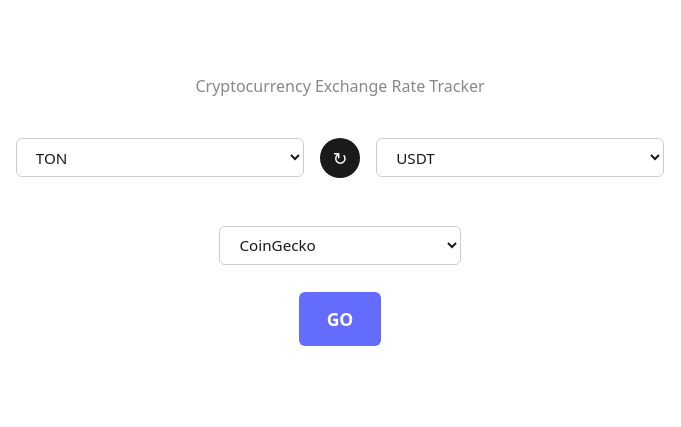
it: App › handles API error gracefully
Click the button "GO" at (340, 319), box [299,292,381,346]
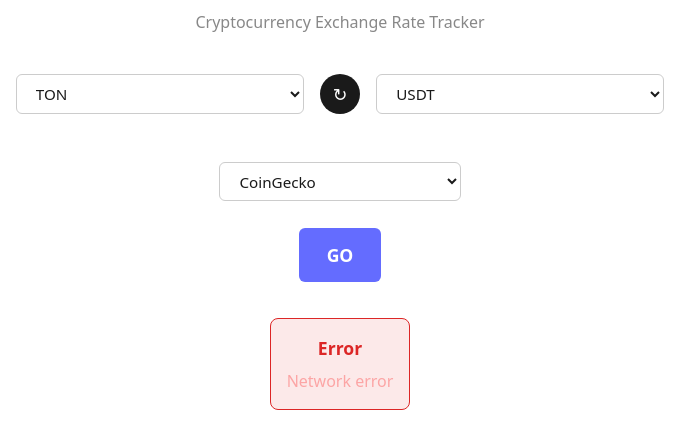
Check: the heading "Error" is shown, box [318,336,362,360]
Check: the text "Network error" is shown, box [287,369,393,393]
